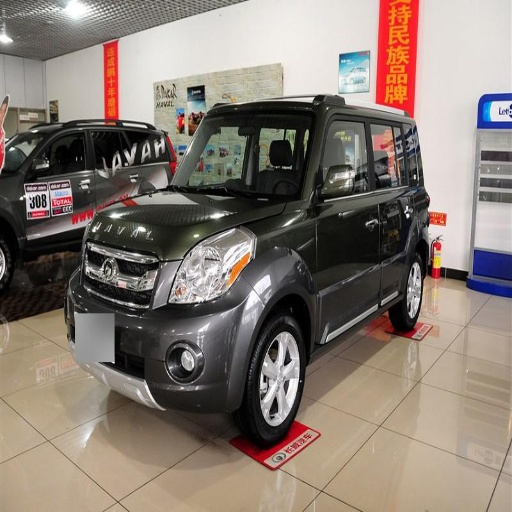front_bumper: (68, 241, 261, 409)
front_glass: (159, 110, 315, 199)
front_left_door: (313, 115, 379, 340)
